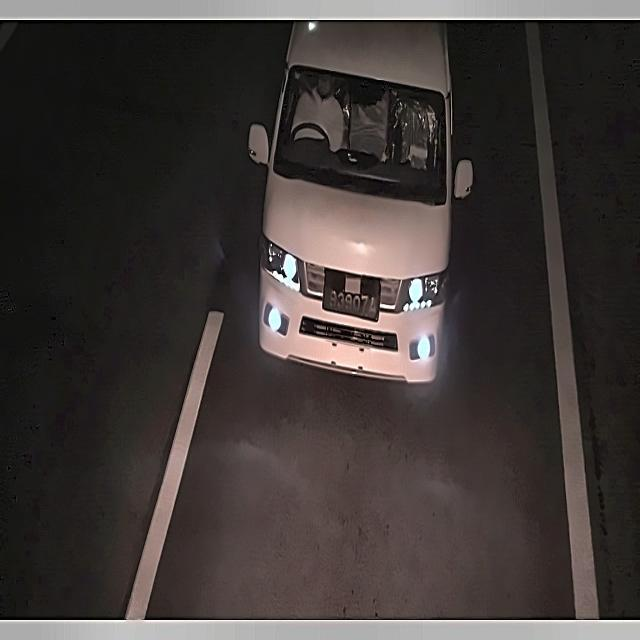car: (322, 268, 385, 324)
